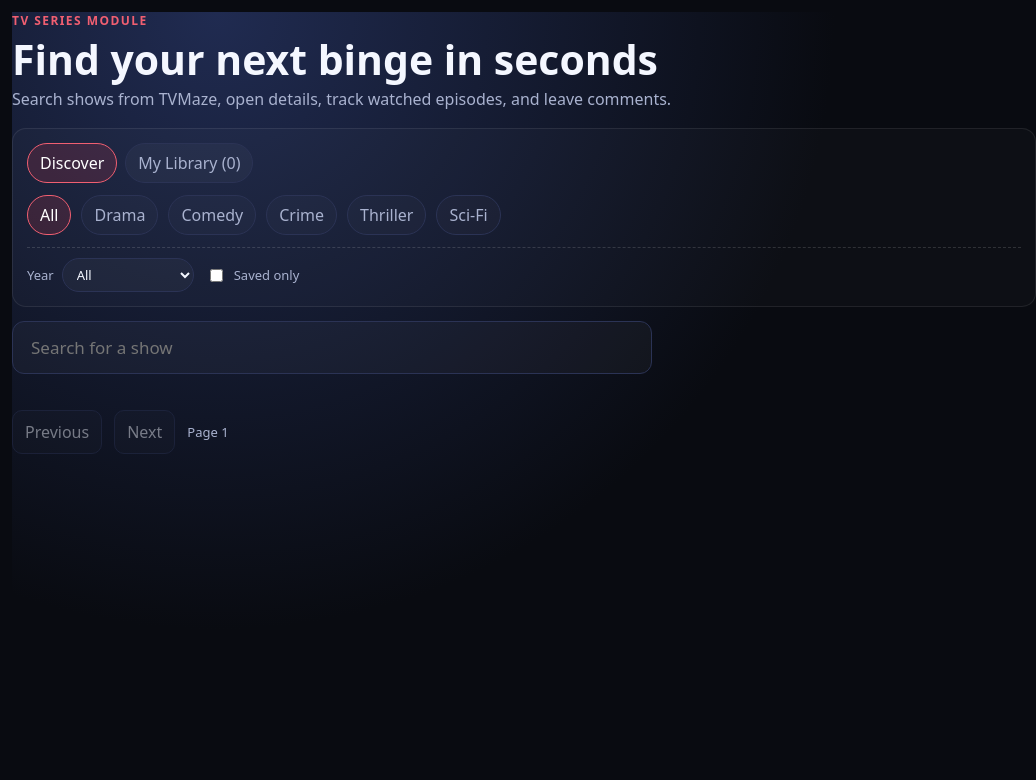
Test: SearchPage › renders results after debounce
Type "test" into the field with placeholder "Search for a show" at (332, 348), box [12, 321, 652, 374]
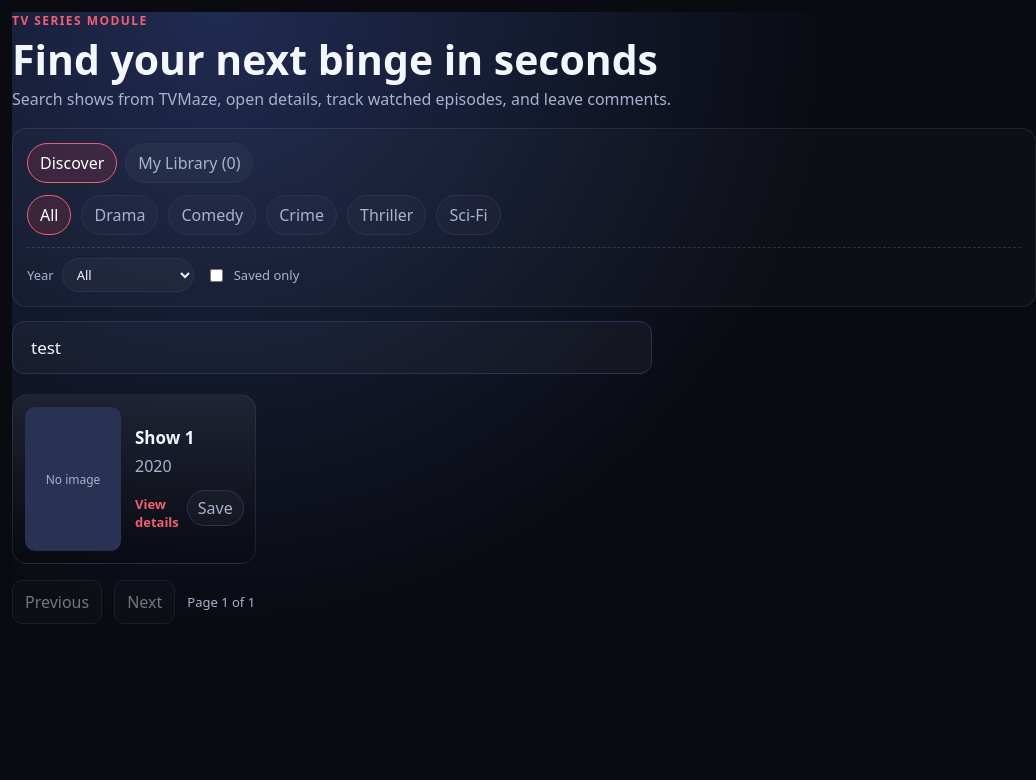
Expected: the link "Show 1" is shown, [135, 426, 194, 449]
